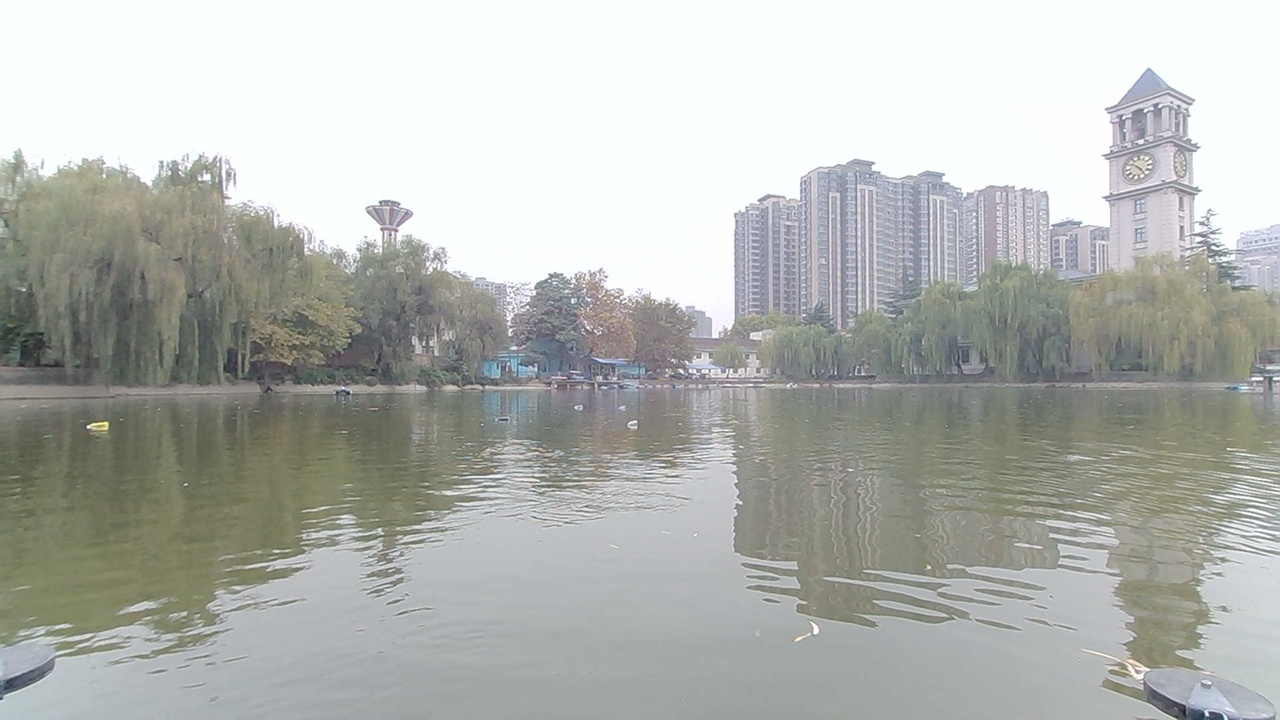bottle: (81, 413, 123, 437), (494, 407, 524, 429), (620, 415, 650, 436), (607, 395, 640, 412), (568, 398, 590, 417)
